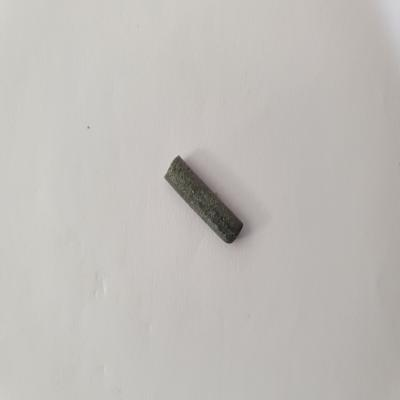plastic: (161, 152, 249, 249)
